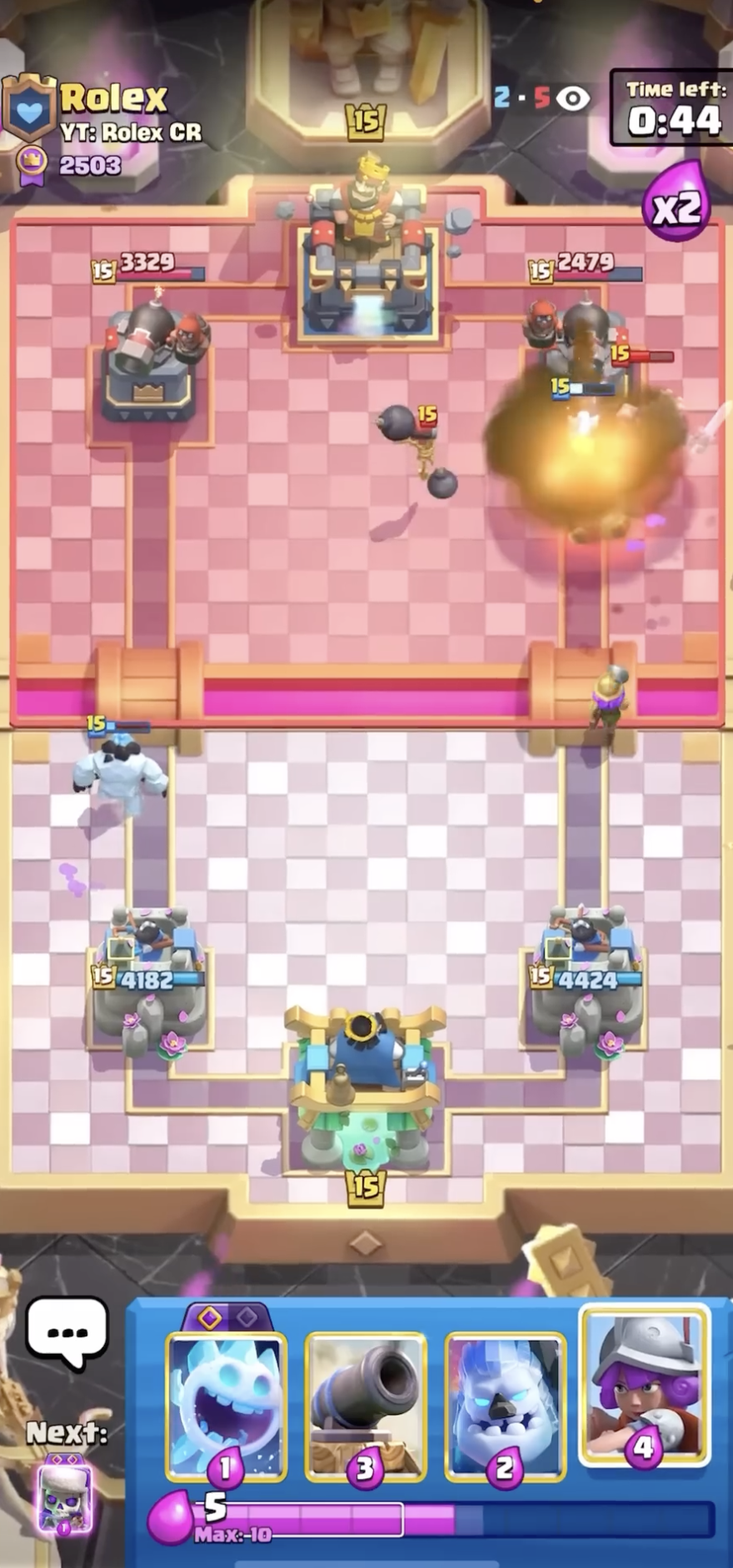bomber: (375, 396, 467, 505)
